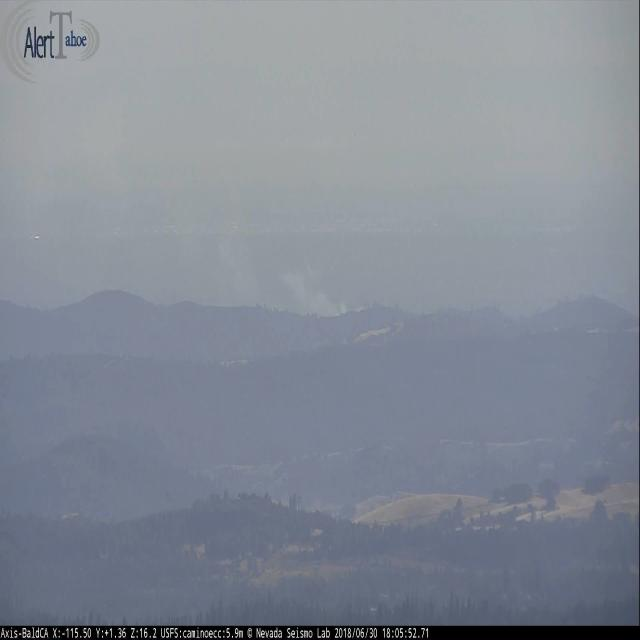smoke: (286, 273, 368, 311)
